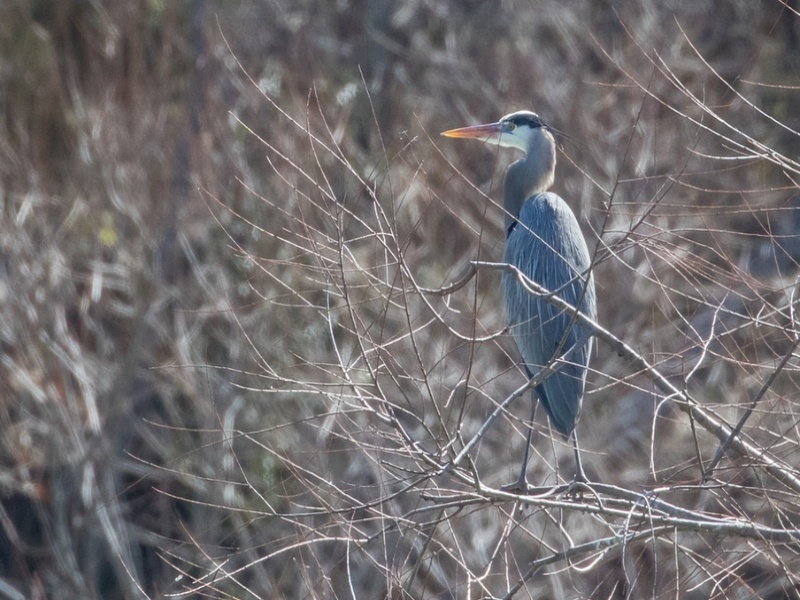heron: (431, 105, 601, 501)
